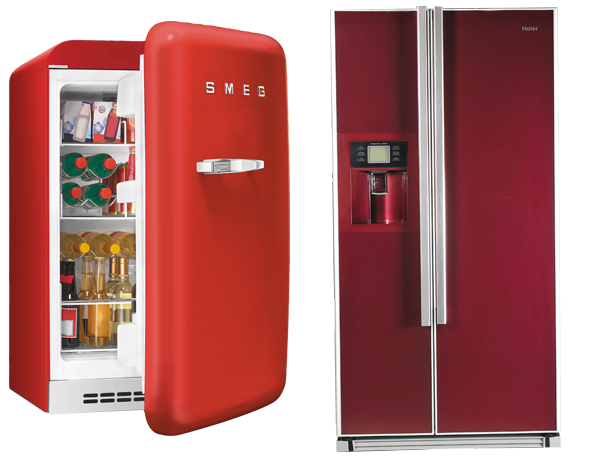Refrigerator: (334, 14, 556, 440), (12, 66, 281, 416)
